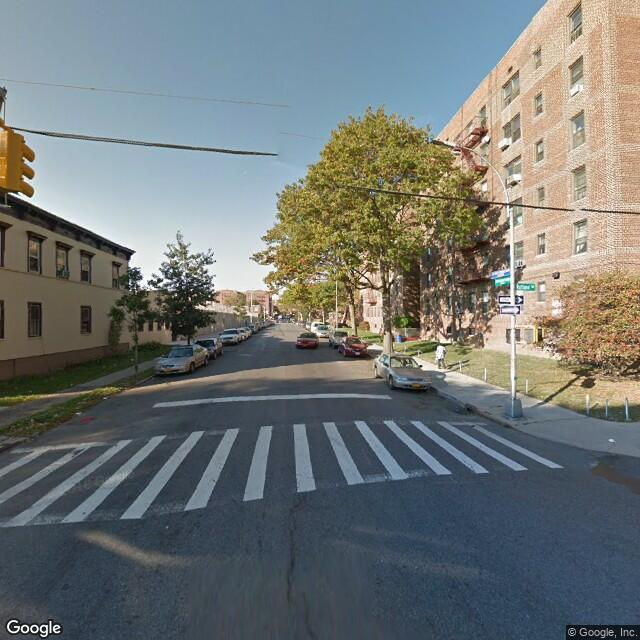litter: (609, 438, 616, 444), (75, 410, 85, 414), (102, 396, 107, 397)
